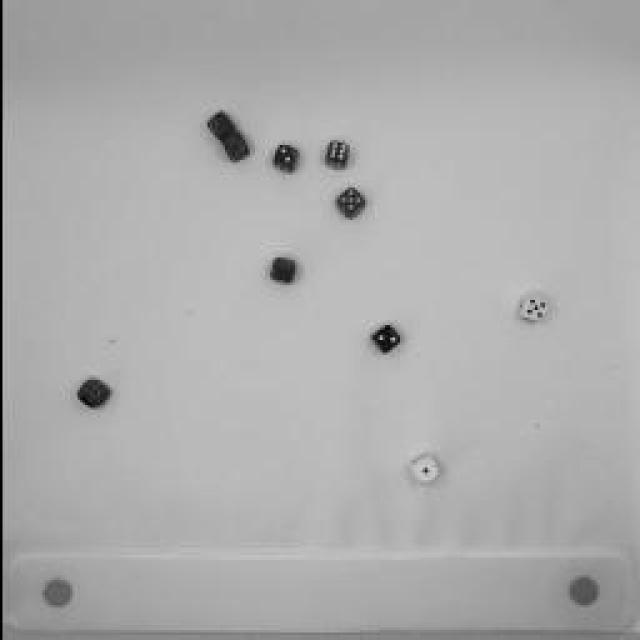dice_1: (408, 448, 442, 494)
dice_2: (265, 138, 305, 180), (362, 318, 402, 358), (219, 131, 249, 164)
dice_3: (264, 256, 301, 289)
dice_4: (72, 375, 112, 410), (204, 110, 236, 142)
dice_5: (328, 188, 368, 222), (511, 294, 551, 326)
dice_6: (319, 135, 351, 173)
